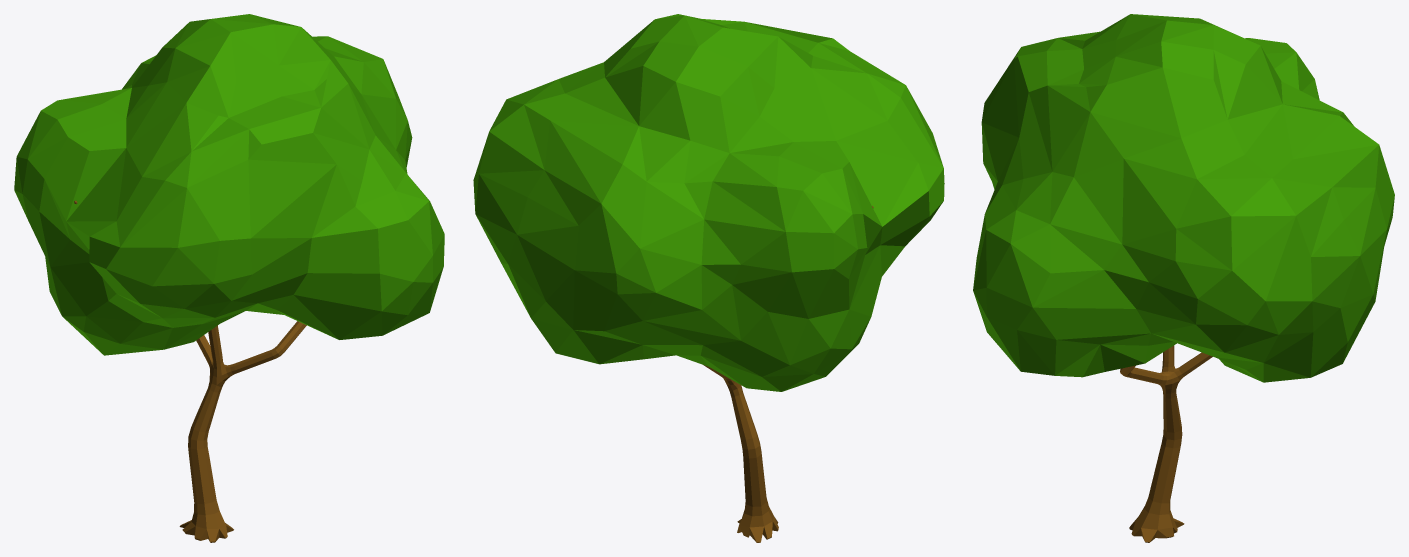
The model's file is tree.fbx.
The picture shows the model from 3 angles, left to right: view 1: azimuth 30°, elevation 25°; view 2: azimuth 150°, elevation 25°; view 3: azimuth 270°, elevation 25°; orthographic projection. The views are drawn at different scales.
Parts seen in each view (by area): view 1: tree; view 2: tree; view 3: tree.
Part boxes in pixels (x1,y1,x2,y2): tree: (14,14,444,542); tree: (473,14,944,542); tree: (973,14,1394,542).
Bounding box in the file's own units: 563 × 711 × 517.
